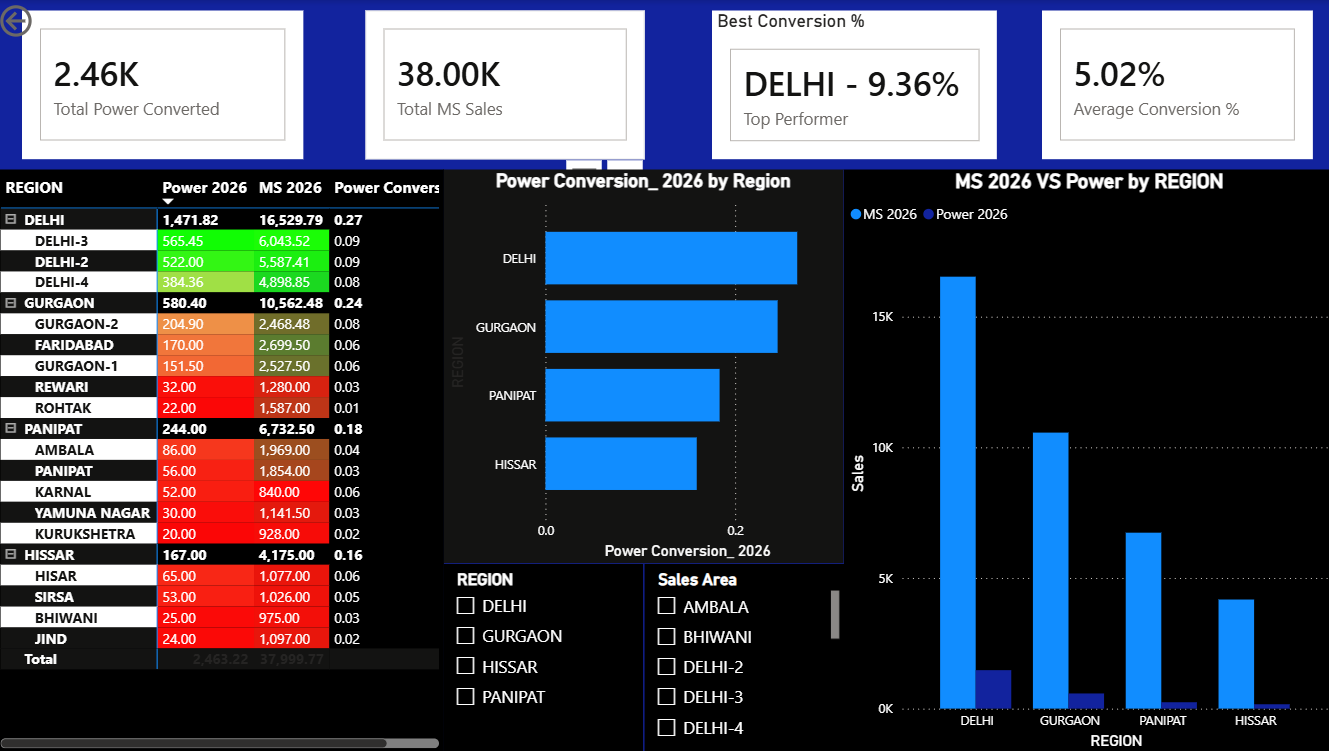

This screenshot's page, from the dashboard's own definition file:
{"tool":"powerbi","page":{"name":"Page 1","canvas":[1280,720],"ordinal":0},"visuals":[{"type":"cardVisual","fields":{"Data":["Power Conversion.Total Power"]},"box":[26.5,9.4,268.3,141.7],"z":0},{"type":"cardVisual","fields":{"Data":["Power Conversion.Total MS"]},"box":[353.4,9.4,266.5,141.7],"z":1000},{"type":"cardVisual","fields":{"Data":["Power Conversion.Avg Conversion"]},"box":[999.7,9.4,258.9,141.7],"z":2000},{"type":"cardVisual","title":"Best Conversion %","fields":{"Data":["Power Conversion.Best Conversion"]},"box":[684.1,9.4,272.1,141.7],"z":3000},{"type":"clusteredBarChart","title":"Power Conversion_ 2026 by Region","fields":{"Category":["Power Conversion.REGION"],"Y":["Sum(Power Conversion.Power Conversion_ 2026)"]},"box":[429,162.5,381.7,376.1],"z":4000},{"type":"clusteredColumnChart","title":"MS 2026 VS Power  by REGION","fields":{"Category":["Power Conversion.REGION"],"Y":["Sum(Power Conversion.MS 2026)","Sum(Power Conversion.Power 2026)"]},"box":[810.7,162.5,468.7,557.5],"z":5000},{"type":"slicer","fields":{"Values":["Power Conversion.REGION"]},"box":[429,538.6,190.9,181.4],"z":6000},{"type":"actionButton","box":[0,0,100,40],"z":7000},{"type":"slicer","fields":{"Values":["Power Conversion.SA"]},"box":[619.8,538.6,190.9,181.4],"z":8000},{"type":"pivotTable","fields":{"Rows":["Power Conversion.REGION","Power Conversion.SA"],"Values":["Sum(Power Conversion.Power 2026)","Sum(Power Conversion.MS 2026)","Sum(Power Conversion.Power Conversion_ 2026)"]},"box":[0,162.5,429,557.5],"z":8001}]}

Visuals, with their boxes in screenshot pixels (x1, y1, x2, y2), scaled from the page's 1280x720 canvas onto the 1329x751 screenshot:
cardVisual - Power Conversion.Total Power: region(28, 10, 306, 158)
cardVisual - Power Conversion.Total MS: region(367, 10, 644, 158)
cardVisual - Power Conversion.Avg Conversion: region(1038, 10, 1307, 158)
"Best Conversion %" cardVisual: region(710, 10, 993, 158)
"Power Conversion_ 2026 by Region" clusteredBarChart: region(445, 169, 842, 562)
"MS 2026 VS Power  by REGION" clusteredColumnChart: region(842, 169, 1328, 750)
slicer - Power Conversion.REGION: region(445, 562, 644, 750)
actionButton: region(0, 0, 104, 42)
slicer - Power Conversion.SA: region(644, 562, 842, 750)
pivotTable - Power Conversion.REGION x Power Conversion.SA: region(0, 169, 445, 750)
